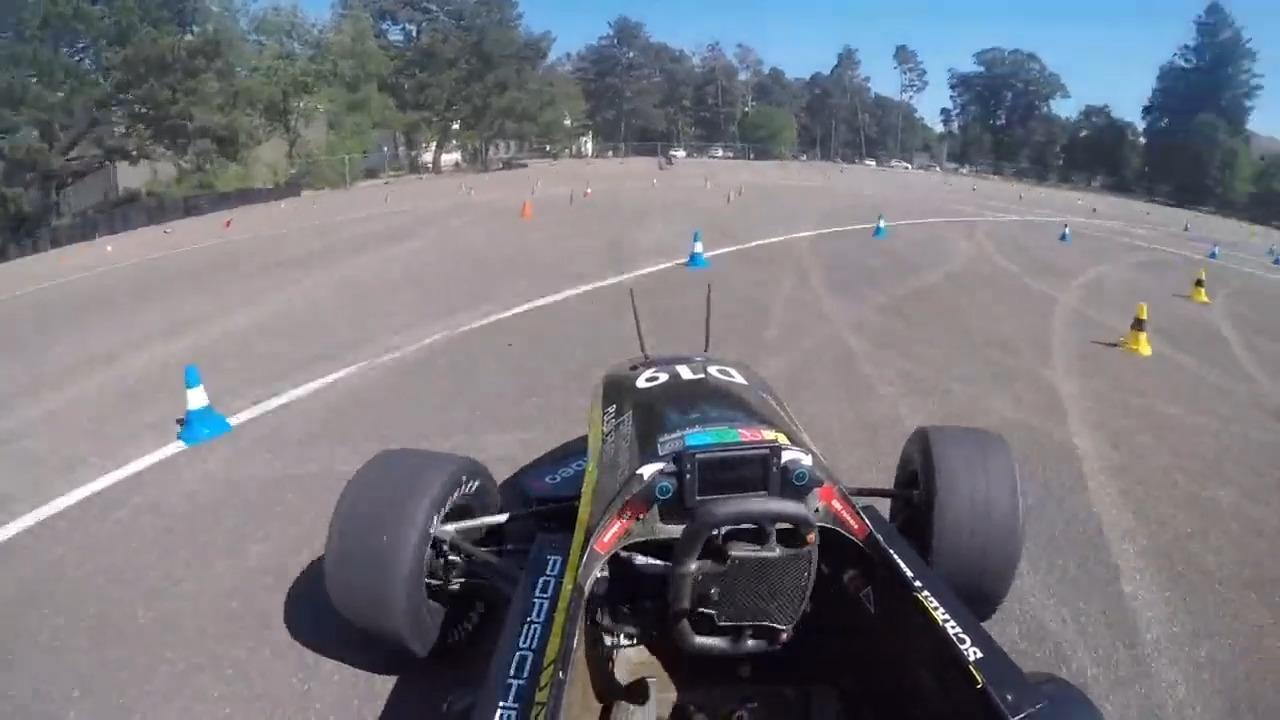blue_cone: (176, 362, 236, 447), (684, 229, 713, 272), (870, 210, 891, 240), (1059, 220, 1073, 244), (1206, 241, 1222, 261)
yellow_cone: (1118, 298, 1154, 356), (1188, 266, 1211, 304)
